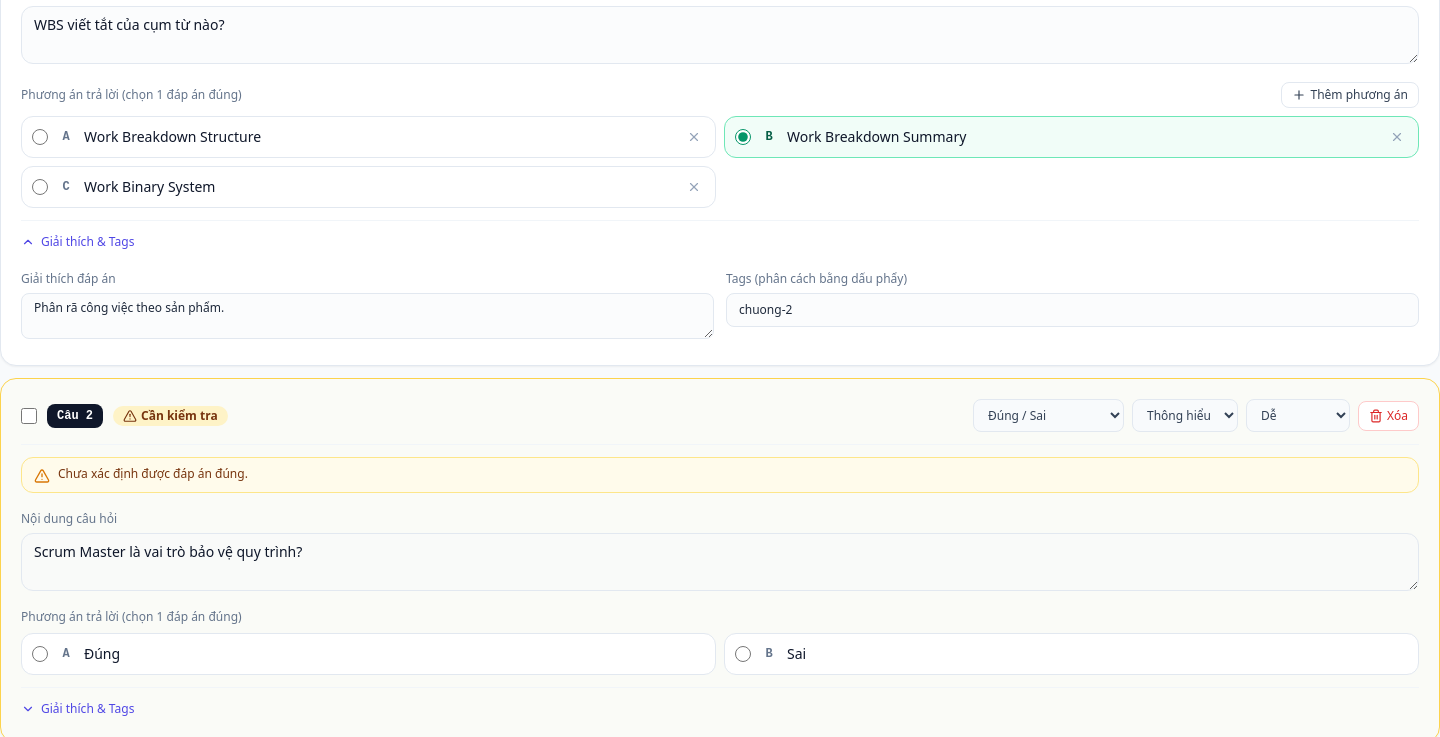
Question Extraction Preview & Inline Editing UI (Issue #7) › renders extracted questions, supports inline edit, fixing warnings, delete/undo, tab switch, and saving to Question Bank
Earlier steps of the test are not shown.
(page scrolled)
Expected: the radio button named "Đánh dấu phương án B là đáp án đúng cho câu 1" is checked, left=735, top=129, right=751, bottom=145
Step 1. Click the radio button named "Đánh dấu phương án A là đáp án đúng cho câu 2" → {"x": 40, "y": 654}, box left=32, top=646, right=48, bottom=662
(page scrolled)
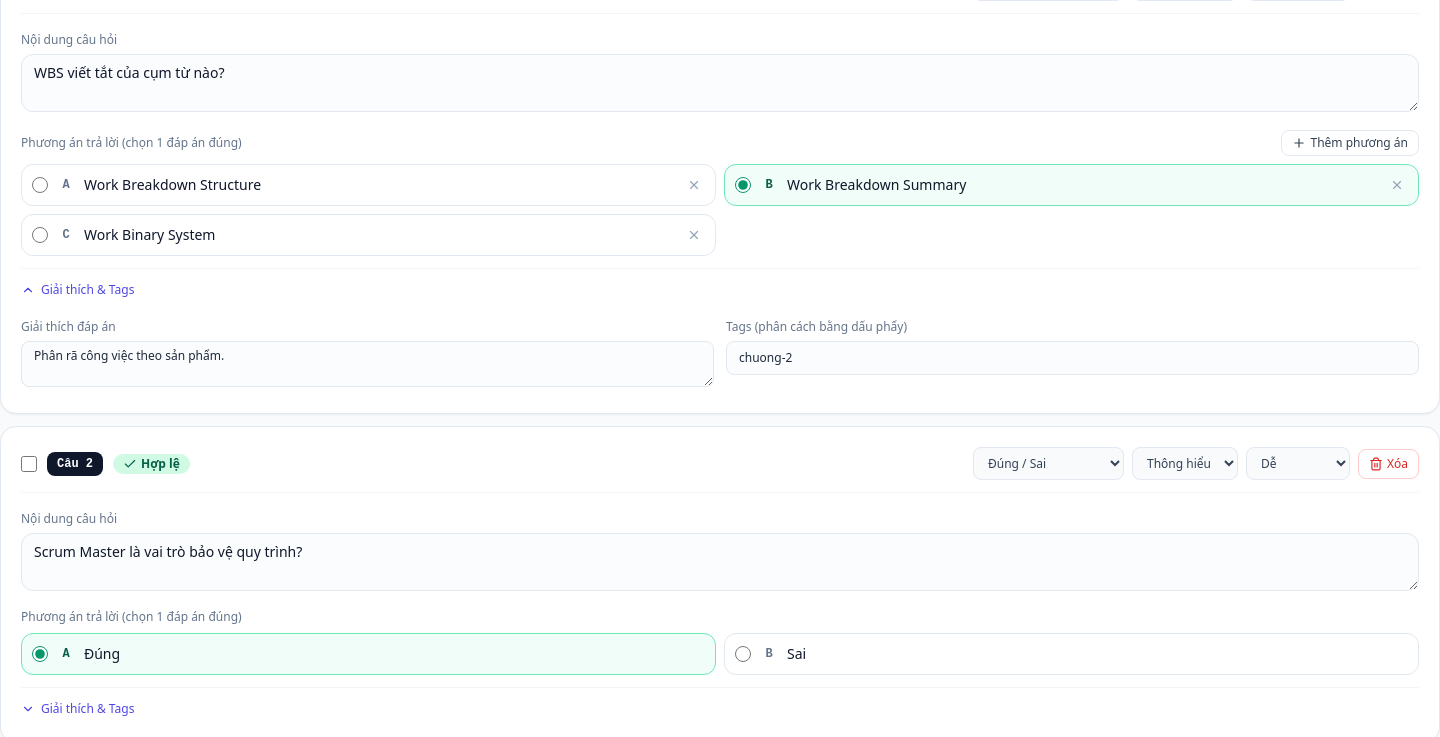
Expected: the text "Chưa xác định được đáp án đúng." is gone
Step 2. Click the button with aria-label "Xóa câu 2" → {"x": 1388, "y": 464}, box left=1358, top=448, right=1419, bottom=478
(page scrolled)
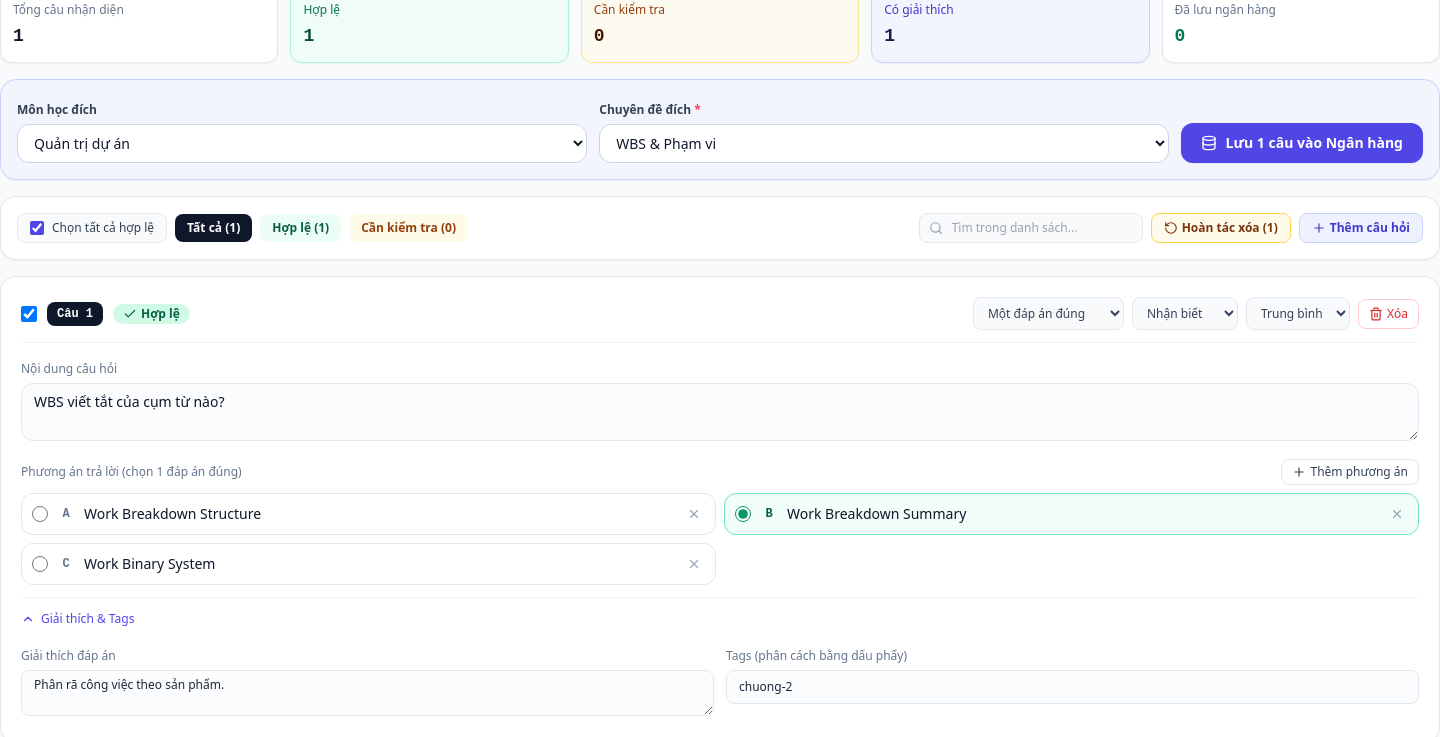
Step 3. Click the button "Hoàn tác xóa (1)" → {"x": 1221, "y": 228}, box left=1151, top=213, right=1291, bottom=243
(page scrolled)
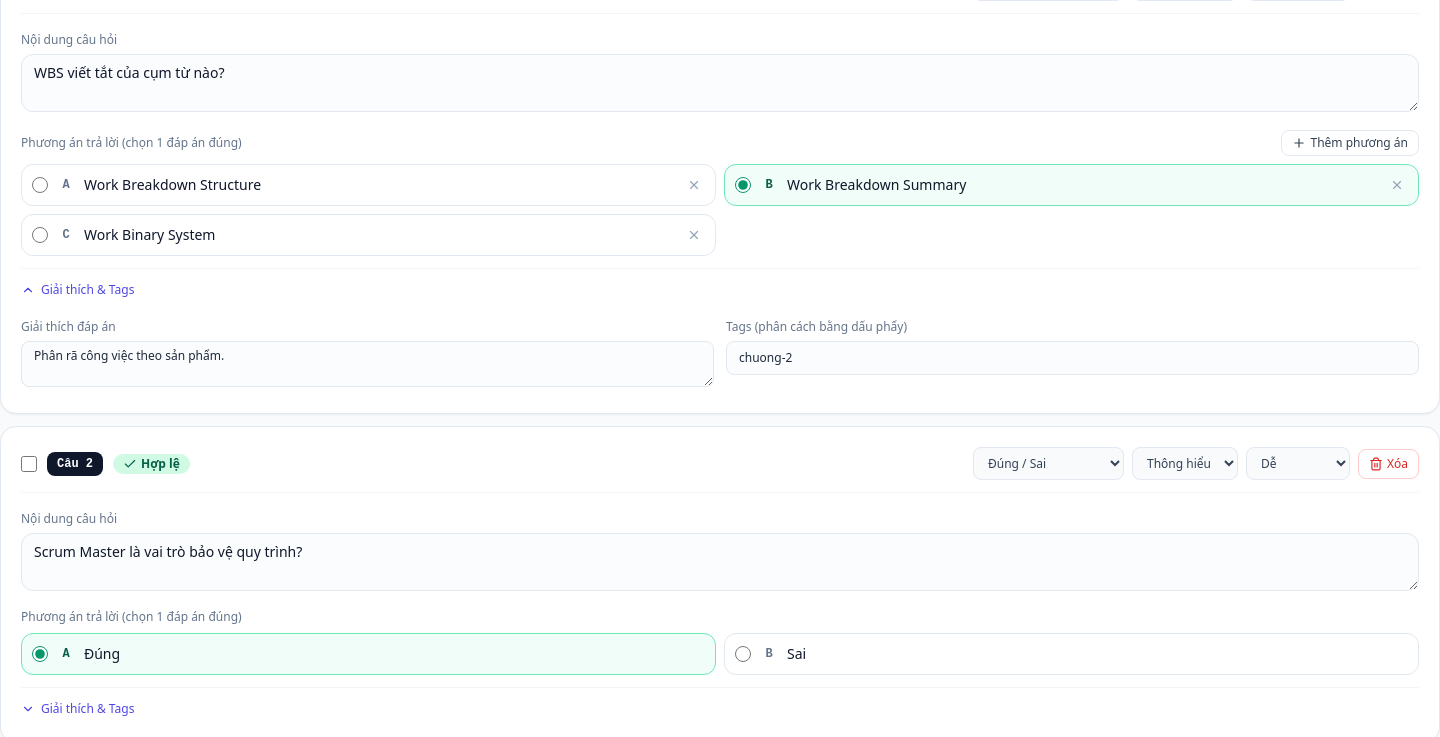
Expected: the text box named "Nội dung câu 2" is shown, left=21, top=533, right=1419, bottom=591
Step 4. Click the button with aria-label "Xóa câu 2" → {"x": 1388, "y": 464}, box left=1358, top=448, right=1419, bottom=478
(page scrolled)
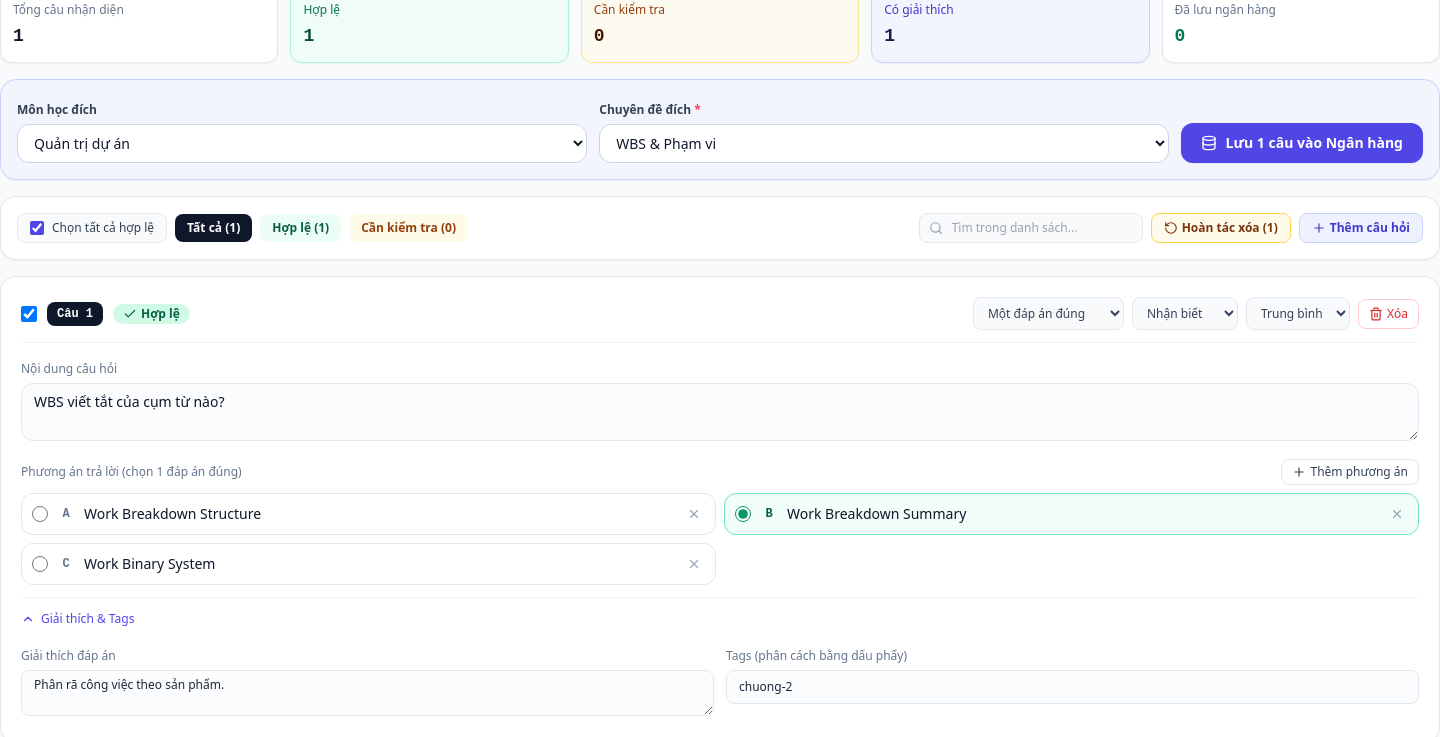
Expected: the dropdown named "Chọn chuyên đề đích" shows "WBS & Phạm vi", left=599, top=124, right=1169, bottom=163
Step 5. Click the button "Lưu 1 câu vào Ngân hàng" → {"x": 1302, "y": 143}, box left=1182, top=123, right=1423, bottom=163
(page scrolled)
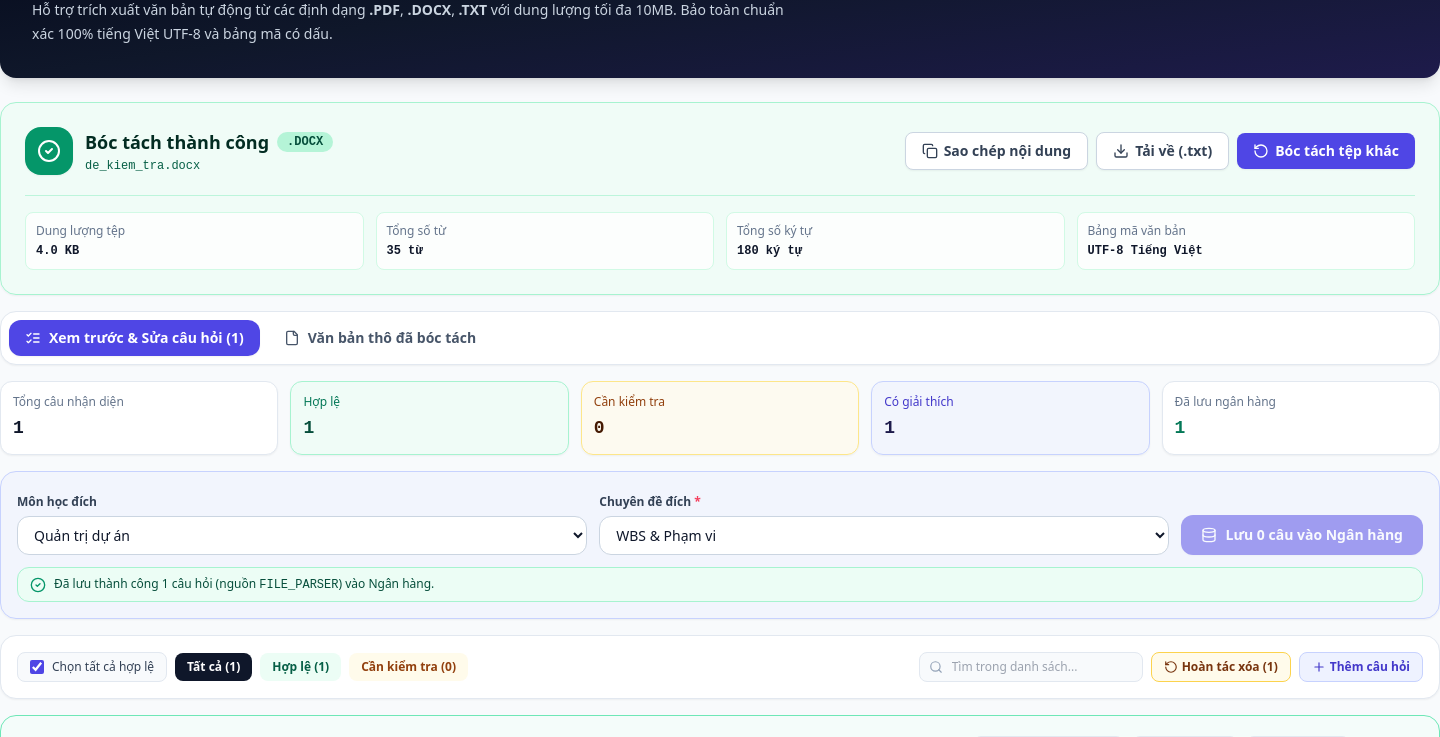
Expected: the text "Đã lưu thành công 1 câu hỏi" is shown, left=54, top=576, right=434, bottom=593
Step 6. Click the button "Văn bản thô đã bóc tách" → {"x": 380, "y": 338}, box left=268, top=320, right=492, bottom=356
(page scrolled)
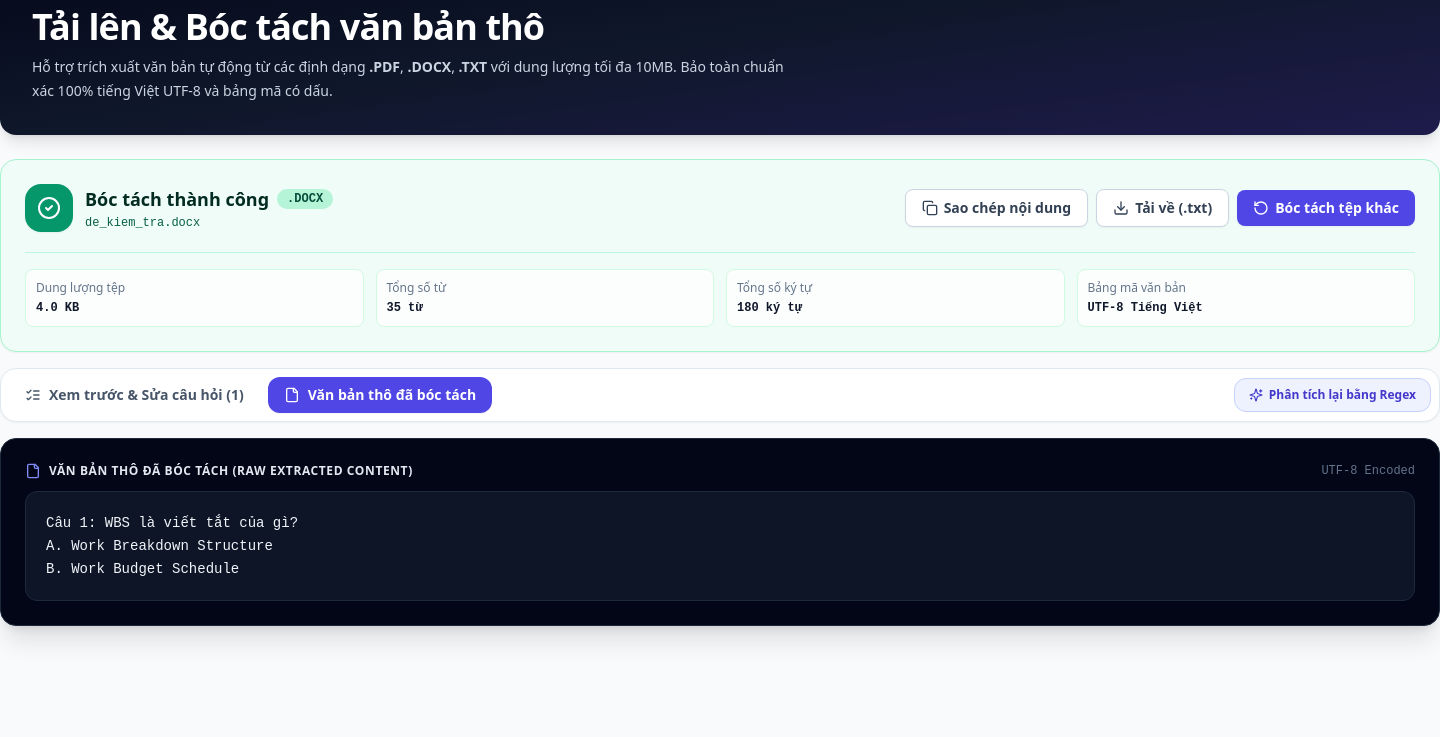
Expected: the text named "Văn bản thô đã trích xuất" shows "Câu 1: WBS là viết tắt của gì?", left=46, top=515, right=298, bottom=576
